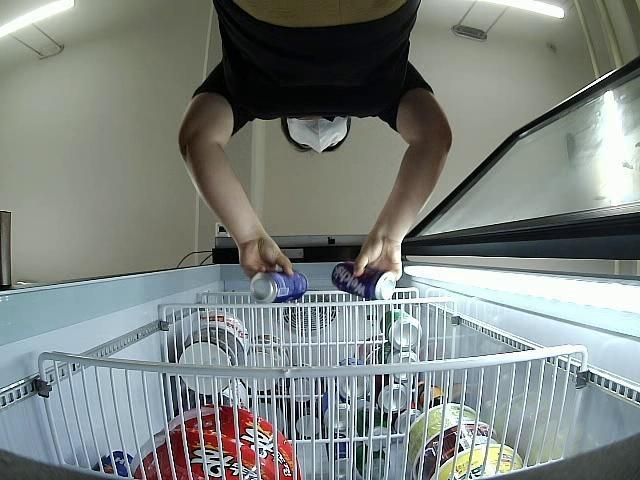14_welchsGrape: (331, 262, 396, 302), (250, 269, 309, 304)
